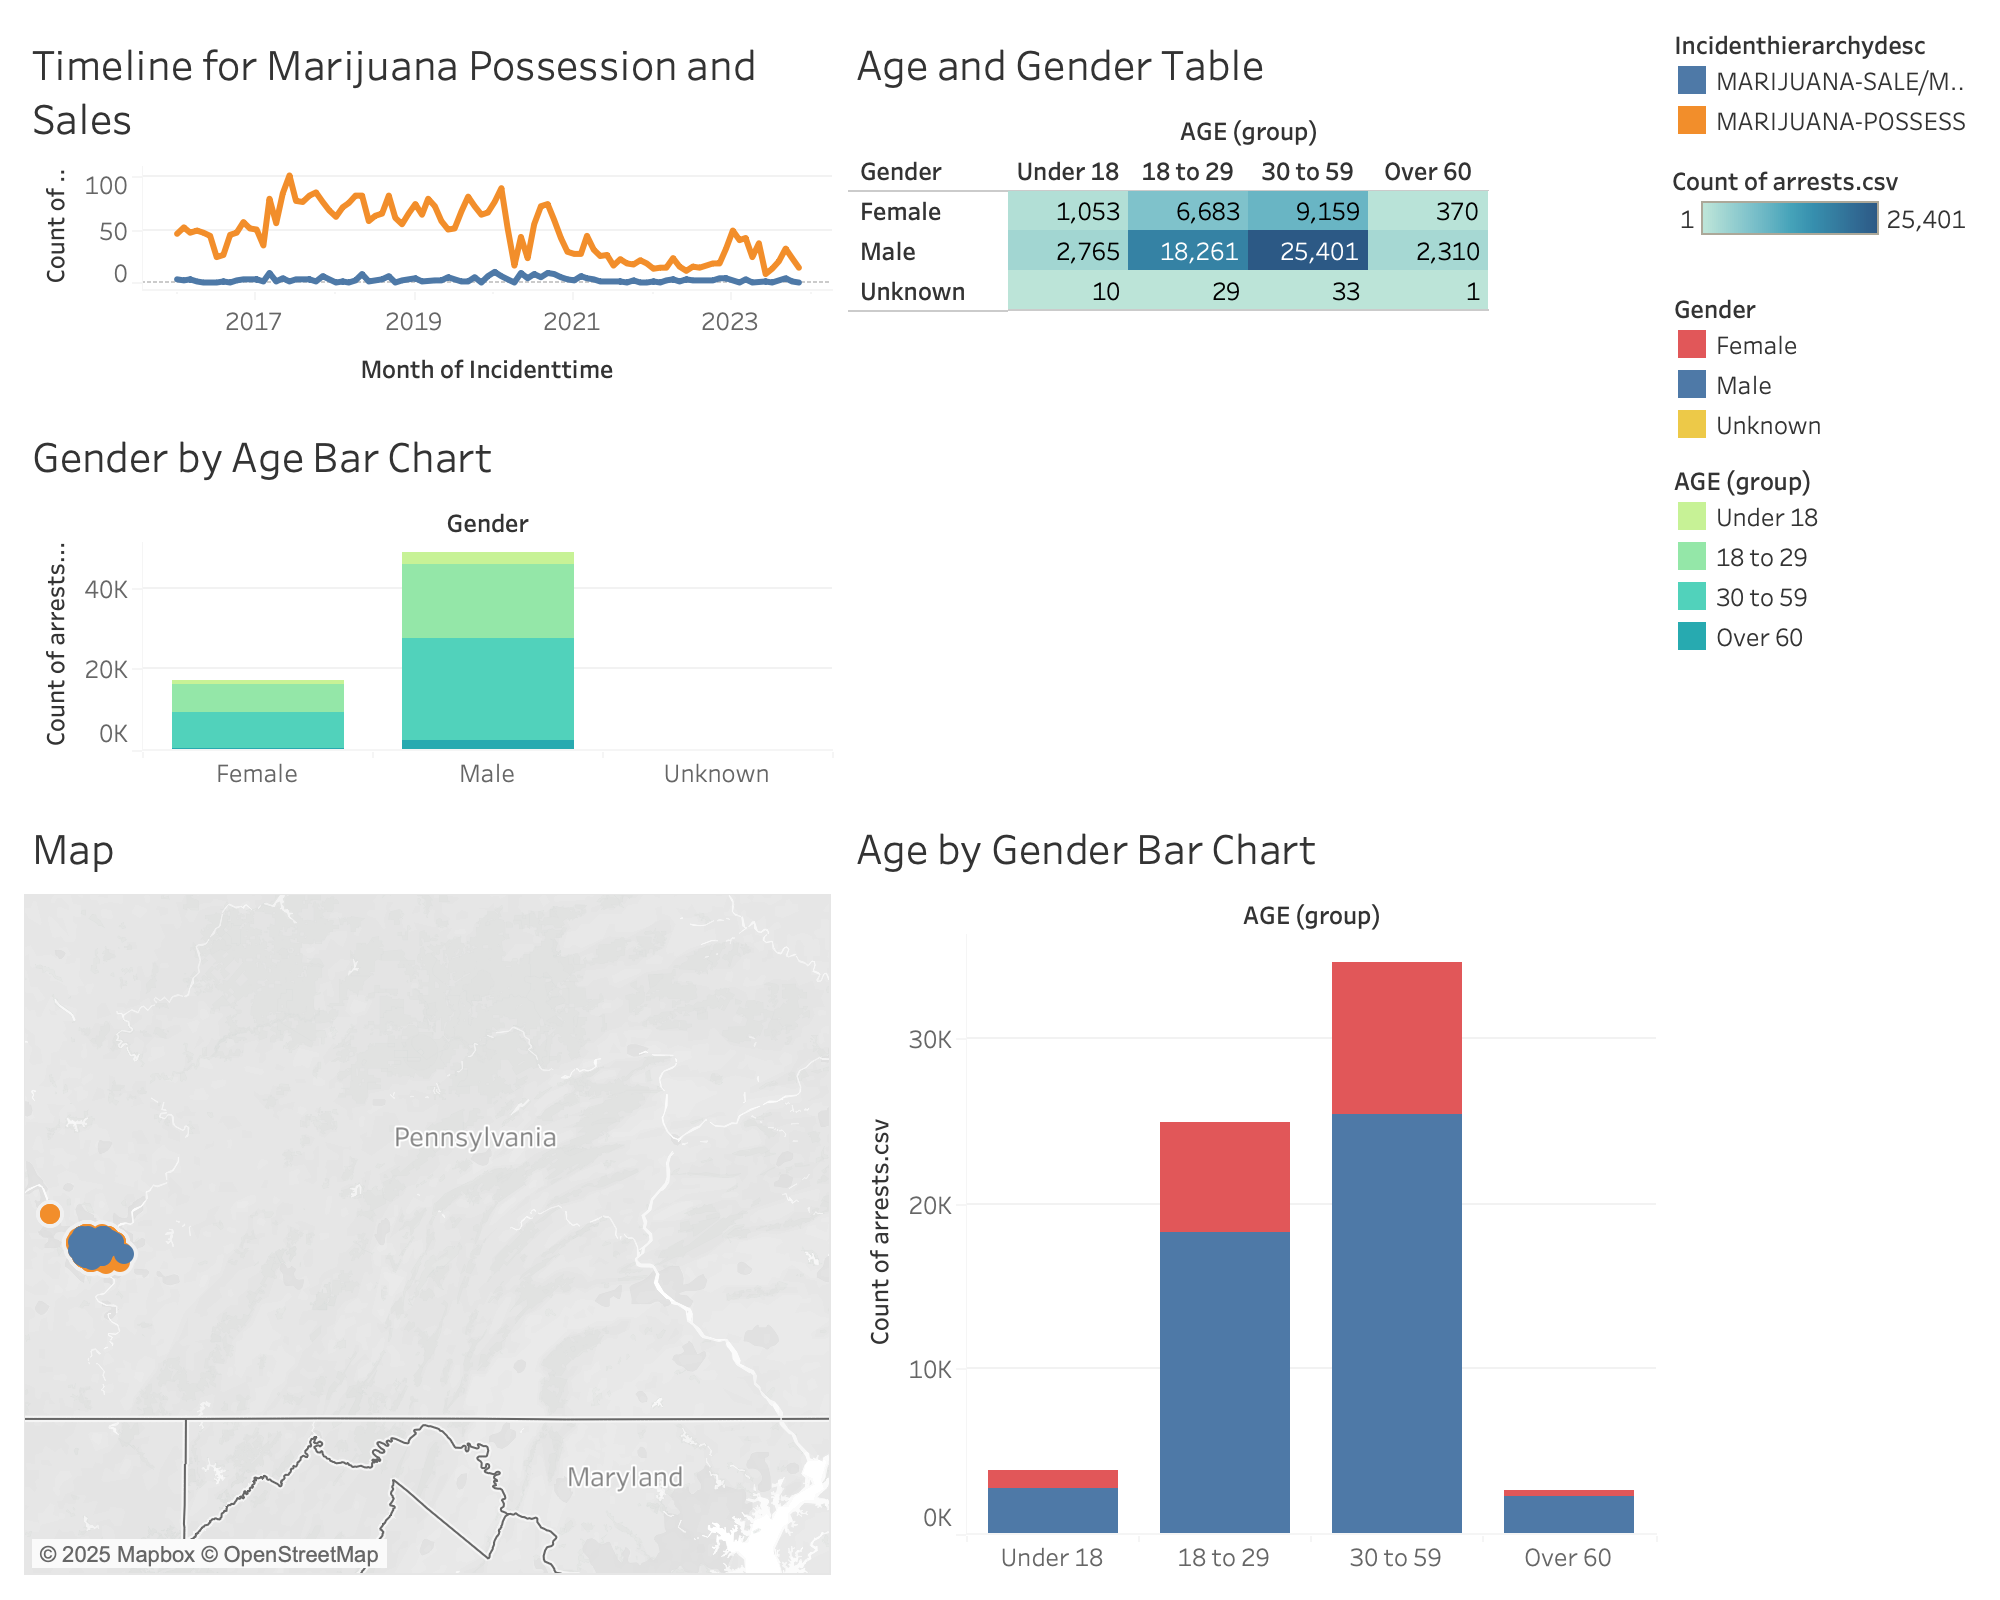

What the dashboard file says about the page in this screenshot:
{"tool":"tableau","page":{"name":"Dashboard 1","canvas":[1000,800],"ordinal":0},"visuals":[{"type":"worksheet","title":"Timeline for Marijuana Possession and Sales","mark":"Automatic","rows":["blotter.csv_6D275D2A28A94EC3A0AC01922C9AE923"],"cols":["INCIDENTTIME"],"box":[8,8,412,196]},{"type":"worksheet","title":"Age and Gender Table","mark":"Square","rows":["GENDER"],"box":[420,8,412,174]},{"type":"legend","title":"Map","param":"[federated.1vp64a017fzk4t13lrh2k16gmgc6].[none:INCIDENTHIERARCHYDESC:nk]","box":[832,8,160,66]},{"type":"legend","title":"Age and Gender Table","param":"[federated.1vp64a017fzk4t13lrh2k16gmgc6].[__tableau_internal_object_id__].[cnt:a","box":[832,74,160,65]},{"type":"legend","title":"Age by Gender Bar Chart","param":"[federated.1vp64a017fzk4t13lrh2k16gmgc6].[none:GENDER:nk]","box":[832,139,160,86]},{"type":"worksheet","title":"Age by Gender Bar Chart","mark":"Automatic","rows":["arrests.csv_2071CC5E0DEA4D458963FB0E87645211"],"box":[420,182,412,610]},{"type":"worksheet","title":"Gender by Age Bar Chart","mark":"Automatic","rows":["arrests.csv_2071CC5E0DEA4D458963FB0E87645211"],"cols":["GENDER"],"box":[8,204,412,196]},{"type":"legend","title":"Gender by Age Bar Chart","param":"[federated.1vp64a017fzk4t13lrh2k16gmgc6].[AGE (group)]","box":[832,225,160,106]},{"type":"worksheet","title":"Map","mark":"Automatic","rows":["Y"],"cols":["X"],"box":[8,400,412,392]}]}

Visuals, with their boxes in screenshot pixels (x1, y1, x2, y2), scaled from the page's 1000x800 canvas onto the 2000x1600 screenshot:
"Timeline for Marijuana Possession and Sales" worksheet: 16, 16, 840, 408
"Age and Gender Table" worksheet (Square marks): 840, 16, 1664, 364
"Map" legend: 1664, 16, 1984, 148
"Age and Gender Table" legend: 1664, 148, 1984, 278
"Age by Gender Bar Chart" legend: 1664, 278, 1984, 450
"Age by Gender Bar Chart" worksheet: 840, 364, 1664, 1584
"Gender by Age Bar Chart" worksheet: 16, 408, 840, 800
"Gender by Age Bar Chart" legend: 1664, 450, 1984, 662
"Map" worksheet: 16, 800, 840, 1584
